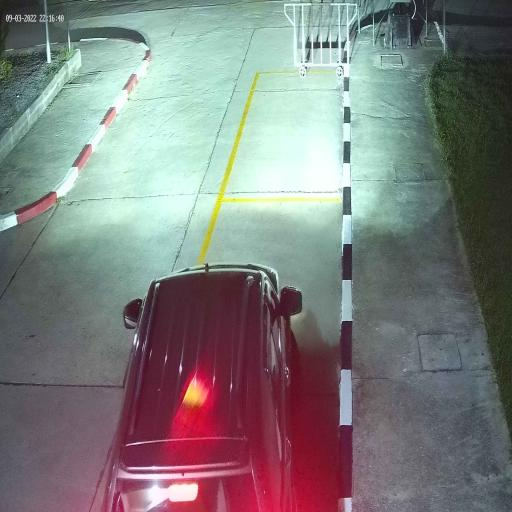car: (99, 263, 299, 512)
